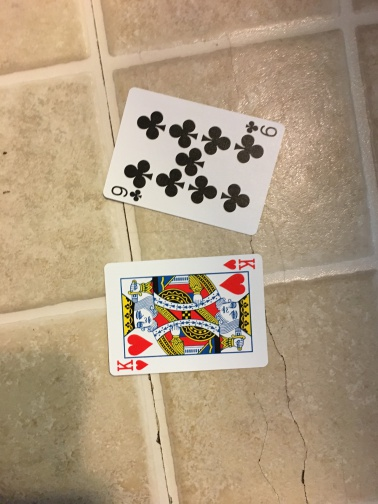king: (103, 254, 268, 376)
nine: (102, 86, 286, 237)
